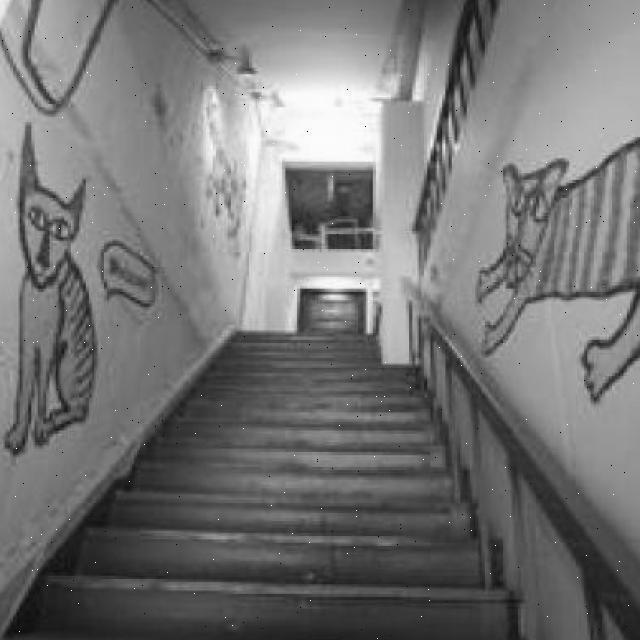stair: (59, 427, 533, 633)
